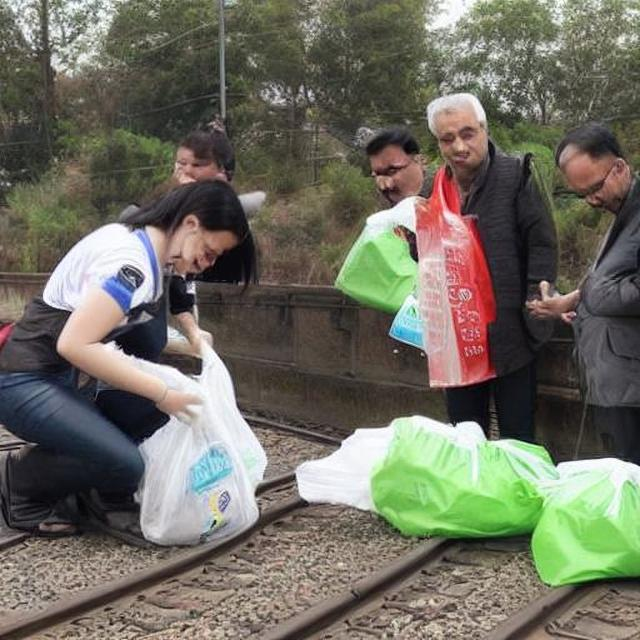plastic bag: (283, 418, 557, 538), (123, 375, 277, 547), (382, 208, 498, 384), (526, 456, 639, 587)
